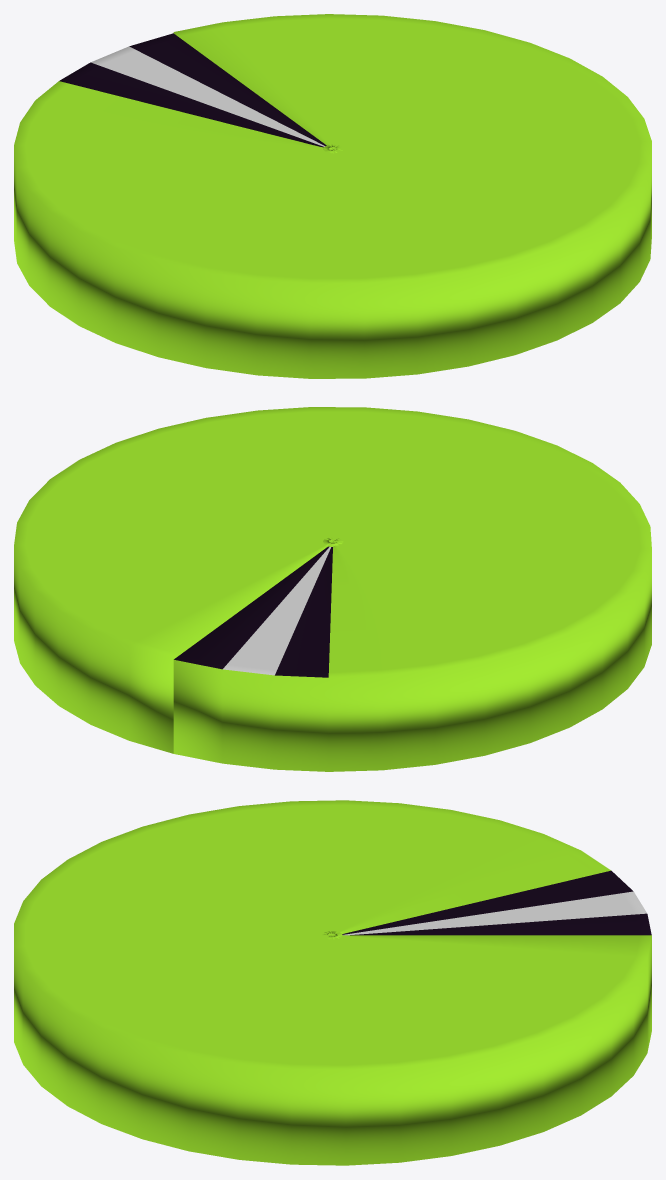
File: secondPrototypeGreen.fbx
The picture shows the model from 3 angles, top to bottom: view 1: azimuth 30°, elevation 25°; view 2: azimuth 150°, elevation 25°; view 3: azimuth 270°, elevation 25°; orthographic projection.
Visible parts, largest first — view 1: Cube; view 2: Cube; view 3: Cube.
Boxes of the visible parts, x1,y1,x2,y2 form: Cube: (14,14,651,378); Cube: (14,407,651,771); Cube: (14,800,651,1165).
Size of the model in its own units: 6087 by 1004 by 6082.
